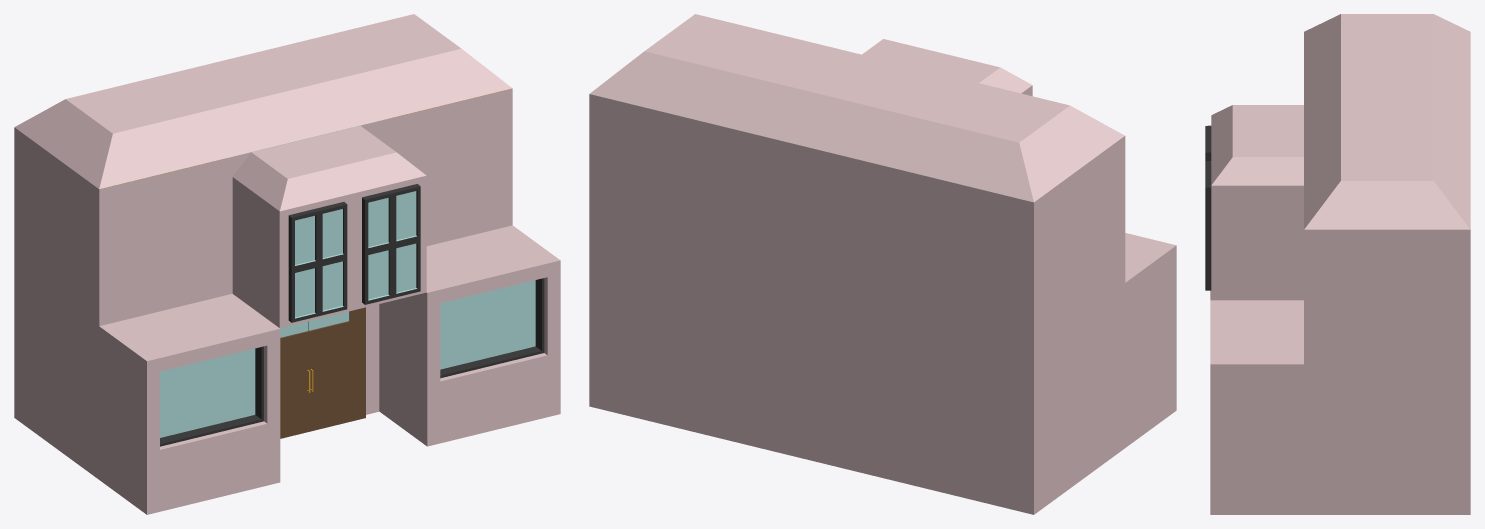
The model's file is House White.fbx.
3 renders of one model, left to right at view 1: azimuth 30°, elevation 25°; view 2: azimuth 150°, elevation 25°; view 3: azimuth 270°, elevation 25°, orthographic. The views are drawn at different scales.
Visible parts, largest first — view 1: Cube.001; view 2: Cube.001; view 3: Cube.001.
Part boxes in pixels (<box>): Cube.001: <box>14,14,560,514</box>; Cube.001: <box>589,14,1176,514</box>; Cube.001: <box>1205,14,1470,514</box>.
Size of the model in its own units: 2552 by 1915 by 1443.
